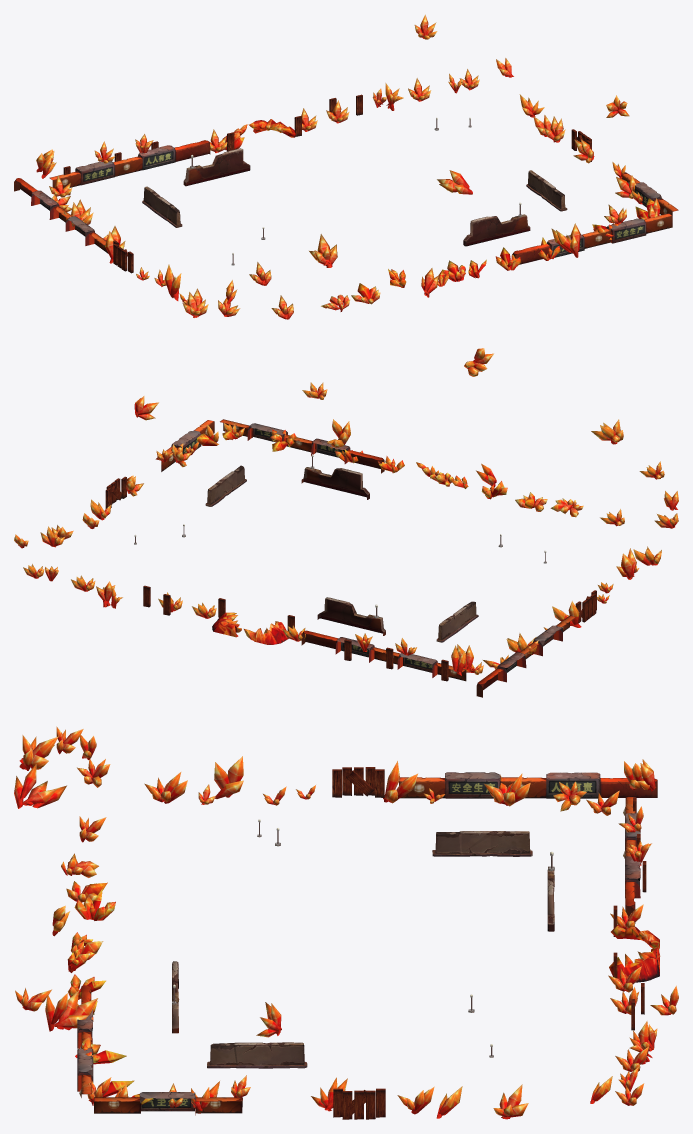
File: map001_01.FBX
3 renders of one model, top to bottom at view 1: azimuth 30°, elevation 25°; view 2: azimuth 150°, elevation 25°; view 3: azimuth 270°, elevation 25°, orthographic. The views are drawn at different scales.
Visible parts, largest first — view 1: map001_01; view 2: map001_01; view 3: map001_01.
Boxes of the visible parts, x1,y1,x2,y2 form: map001_01: (14, 14, 678, 319); map001_01: (14, 348, 678, 697); map001_01: (14, 726, 678, 1119).
Size of the model in its own units: 2348 by 630 by 1977.
1 material, 1 textured.
